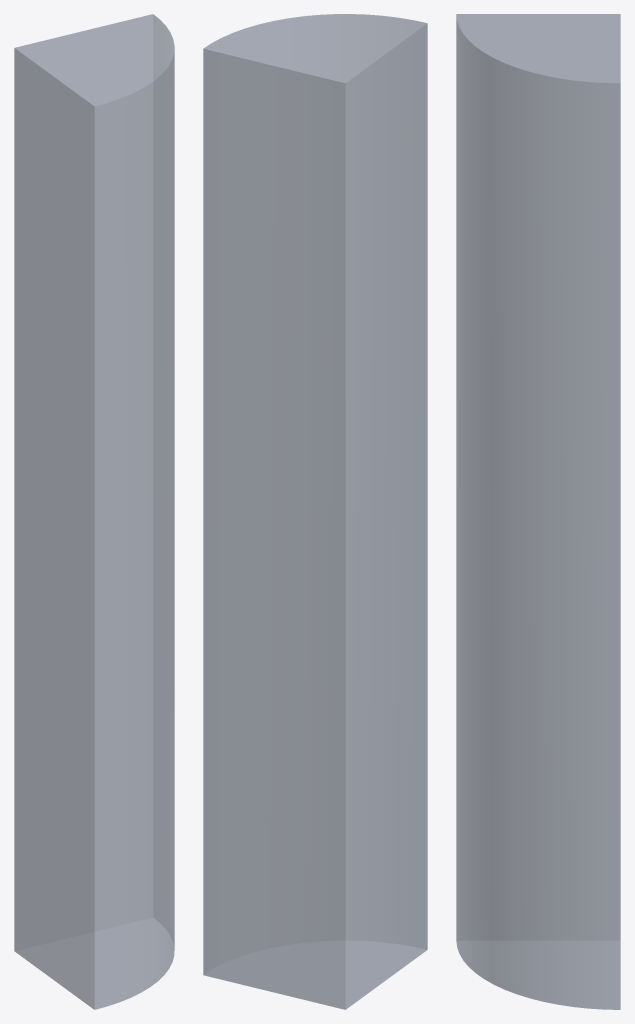
Rendered from pillar-quarter-lite.glb.
3 renders of one model, left to right at view 1: azimuth 30°, elevation 25°; view 2: azimuth 150°, elevation 25°; view 3: azimuth 270°, elevation 25°, orthographic. The views are drawn at different scales.
Parts seen in each view (by area): view 1: pillar-quarter; view 2: pillar-quarter; view 3: pillar-quarter.
Part boxes in pixels (x1=…): pillar-quarter: x1=14, y1=14, x2=174, y2=1009; pillar-quarter: x1=203, y1=14, x2=427, y2=1009; pillar-quarter: x1=456, y1=14, x2=620, y2=1009.
Bounding box in the file's own units: 0.45 × 2.8 × 0.45.
